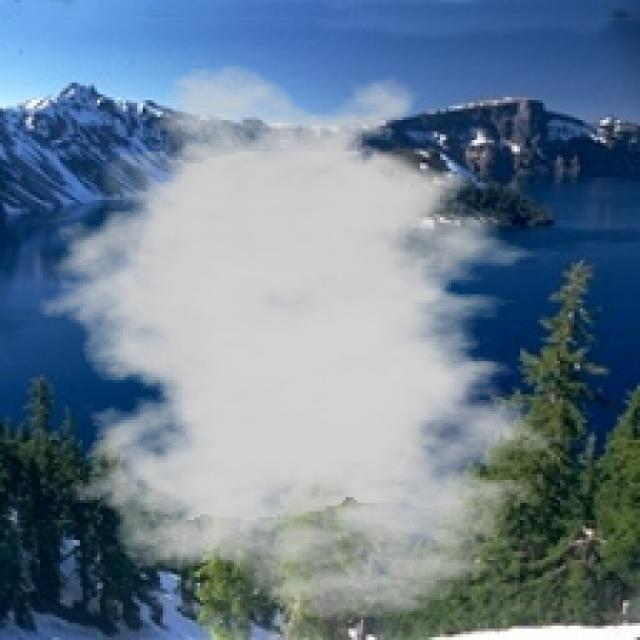smoke: (29, 63, 592, 620)
